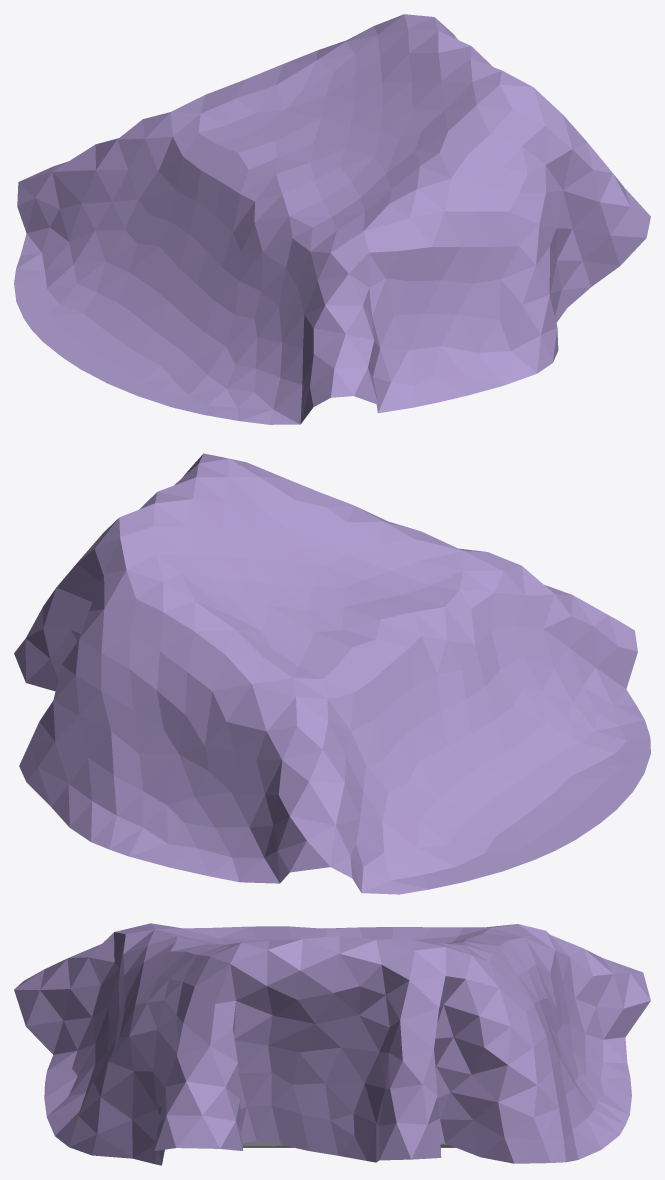
File: level_0.glb
3 views of the same model, one above another, from view 1: azimuth 30°, elevation 25°; view 2: azimuth 150°, elevation 25°; view 3: azimuth 270°, elevation 25° (orthographic). The views are drawn at different scales.
Parts seen in each view (by area): view 1: world; view 2: world; view 3: world.
Boxes of the visible parts, box(x1,y1,x2,y2) form: world: box(14, 14, 650, 424); world: box(14, 453, 650, 894); world: box(14, 923, 650, 1165).
Size of the model in its own units: 0.4832 by 0.195 by 0.501.
